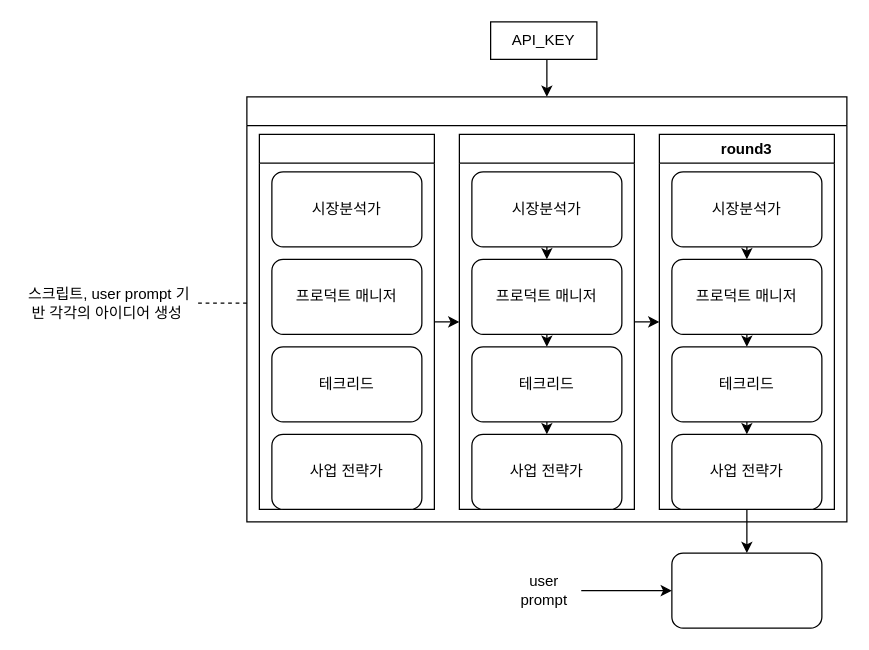
Image size: 869x650. Some labels were removed from this diagram. The shapes that lost their labels are listed below. From the top down, each one's box as (x1, y1, x2, y2) in pixels, then its label:
(258, 133, 434, 509): round1
(458, 133, 634, 509): round2
(246, 96, 847, 522): 전문가 토론 프로세스
(671, 552, 822, 628): 결론 도출
